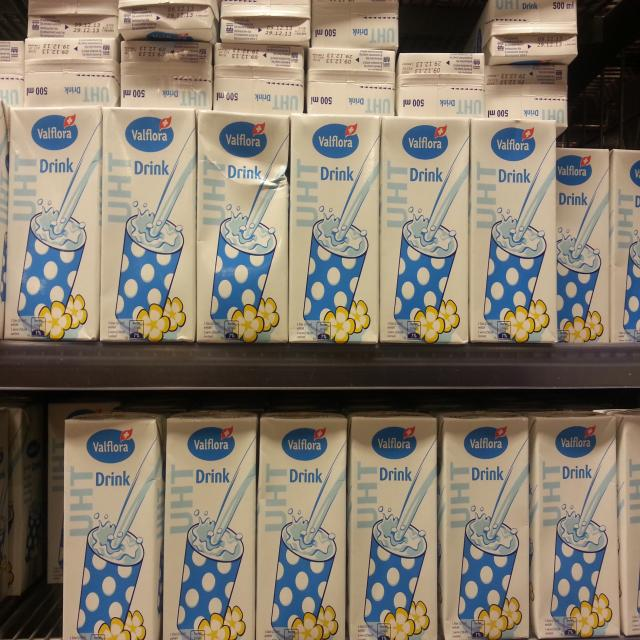Milk: (65, 411, 165, 640), (5, 104, 101, 340), (104, 104, 198, 338), (194, 109, 288, 342), (288, 111, 381, 342), (438, 409, 530, 640), (348, 410, 440, 640), (530, 408, 621, 640), (166, 411, 258, 640), (257, 411, 346, 640), (470, 119, 560, 344), (381, 116, 470, 343), (556, 147, 609, 345), (471, 0, 576, 64), (21, 38, 116, 108), (308, 45, 395, 116), (212, 44, 304, 110), (123, 42, 215, 105), (394, 53, 484, 116), (484, 66, 568, 127), (311, 0, 400, 51)
